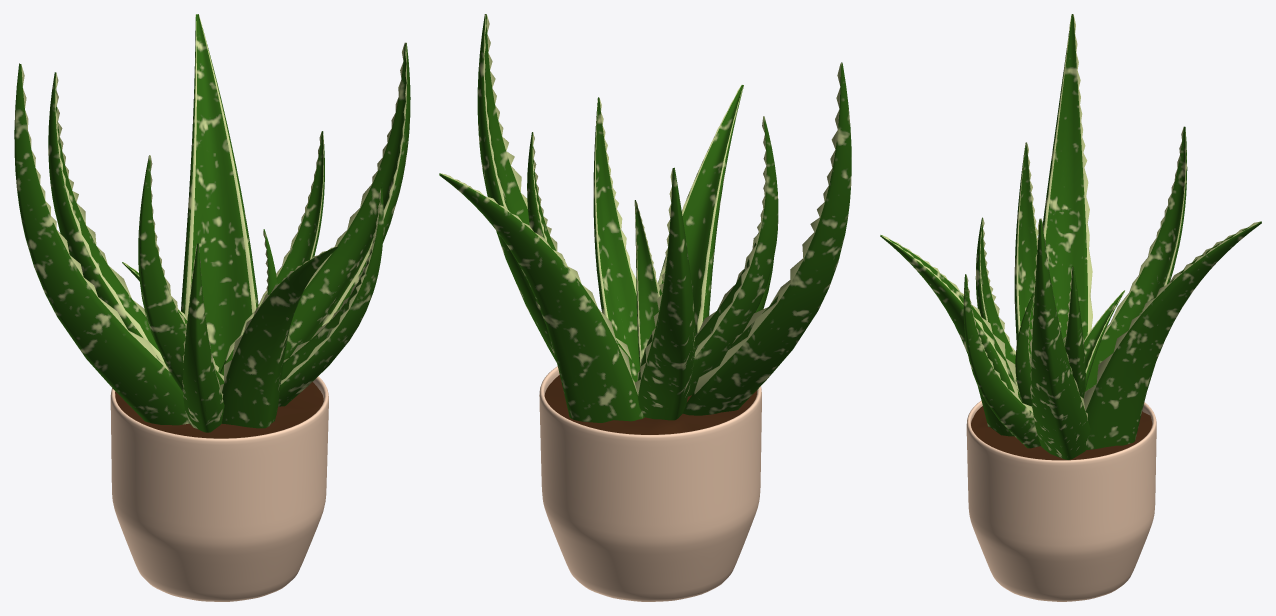
The model's file is aloe.gltf.
3 views of the same model, side by side, from view 1: azimuth 30°, elevation 25°; view 2: azimuth 150°, elevation 25°; view 3: azimuth 270°, elevation 25° (orthographic). The views are drawn at different scales.
Visible parts, largest first — view 1: Aloe_Material.002_0, Aloe_pot_0, Aloe_Material.001_0, Aloe_Material.004_0; view 2: Aloe_Material.002_0, Aloe_pot_0, Aloe_Material.001_0, Aloe_Material.004_0; view 3: Aloe_Material.002_0, Aloe_pot_0, Aloe_Material.001_0, Aloe_Material.004_0.
Part boxes in pixels (box(x1,y1,x2,y2)): Aloe_Material.002_0: box(14, 14, 410, 432); Aloe_pot_0: box(110, 376, 328, 601); Aloe_Material.001_0: box(21, 14, 407, 398); Aloe_Material.004_0: box(115, 382, 323, 438); Aloe_Material.002_0: box(439, 14, 851, 422); Aloe_pot_0: box(539, 366, 761, 601); Aloe_Material.001_0: box(440, 14, 840, 395); Aloe_Material.004_0: box(544, 375, 756, 434); Aloe_Material.002_0: box(880, 14, 1261, 459); Aloe_pot_0: box(966, 400, 1156, 601); Aloe_Material.001_0: box(881, 15, 1260, 418); Aloe_Material.004_0: box(971, 406, 1152, 460).
Size of the model in its own units: 1.24 by 1.72 by 1.24.
4 materials, 1 textured.
